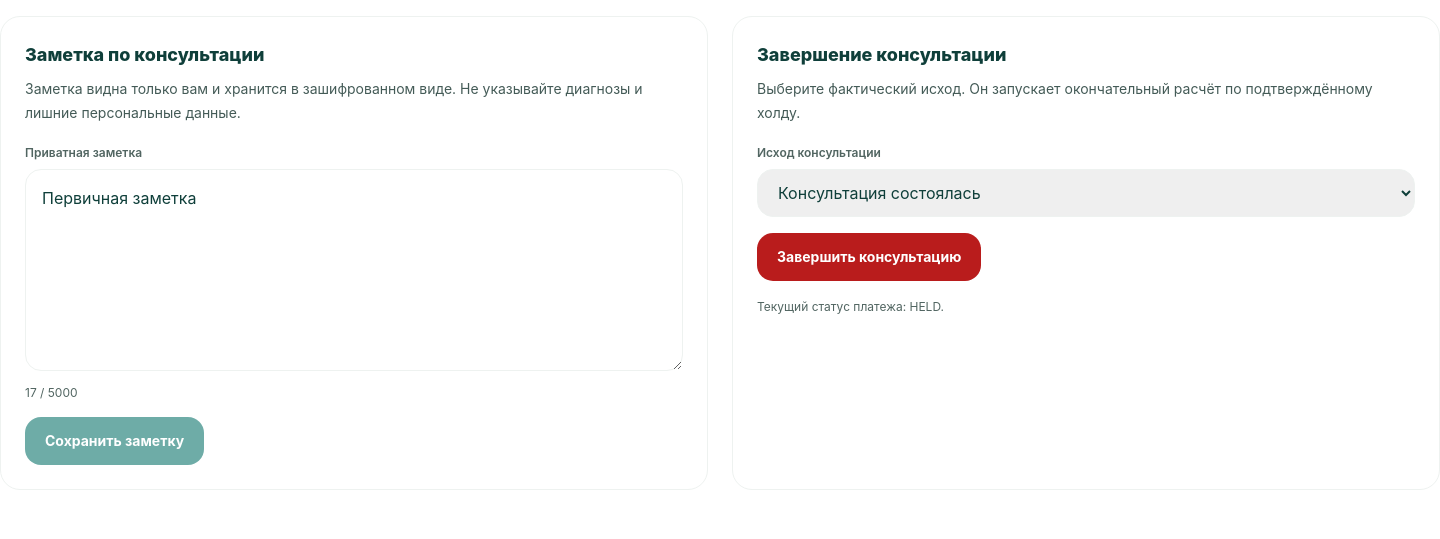
ExpertSessionActions › при ошибке заметки сохраняет текст и даёт повторить
The width and height of the screenshot is (1440, 539).
Replace the text in the text box labelled "Приватная заметка" with "Черновик": coordinates (354, 270) 25,169 -> 683,371
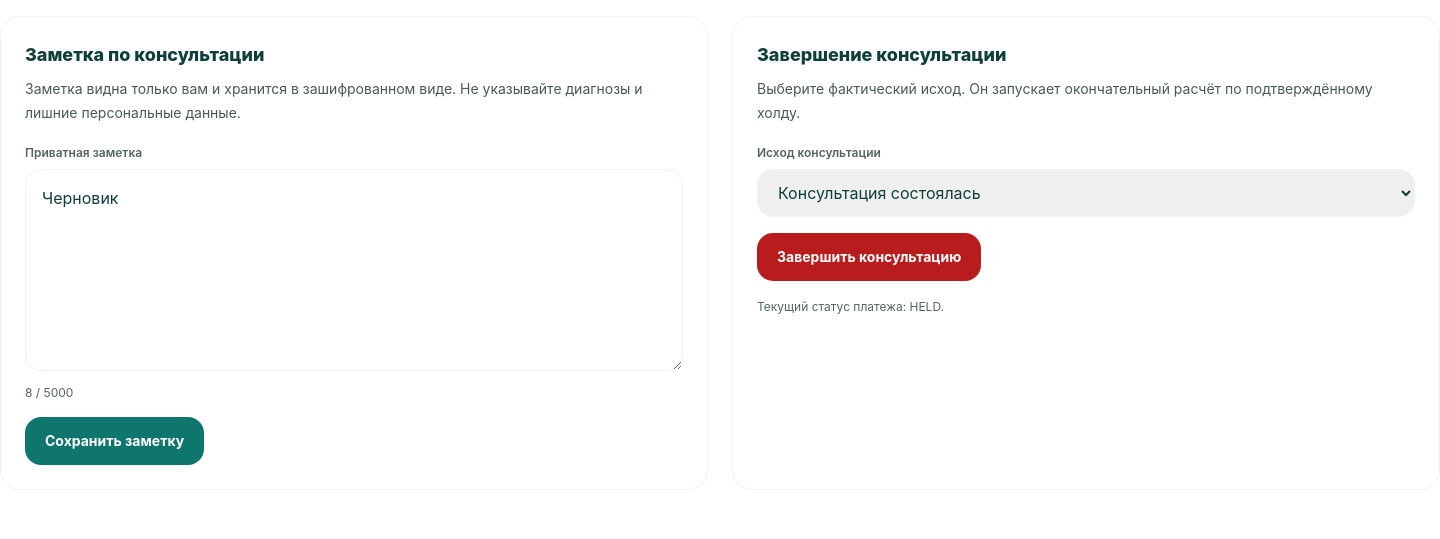
Click the button "Сохранить заметку": coordinates (115, 441) 25,417 -> 204,465
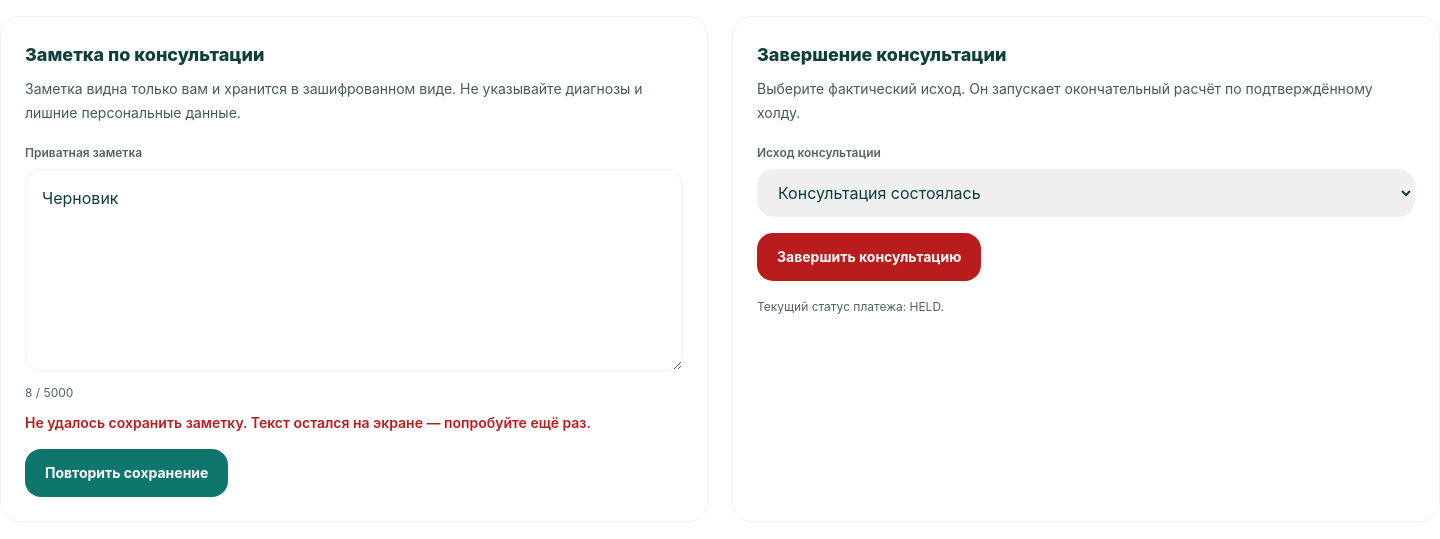
Result: the message shows "Не удалось сохранить" at 25,414 -> 591,431
Click the button "Повторить сохранение": coordinates (127, 473) 25,449 -> 228,497
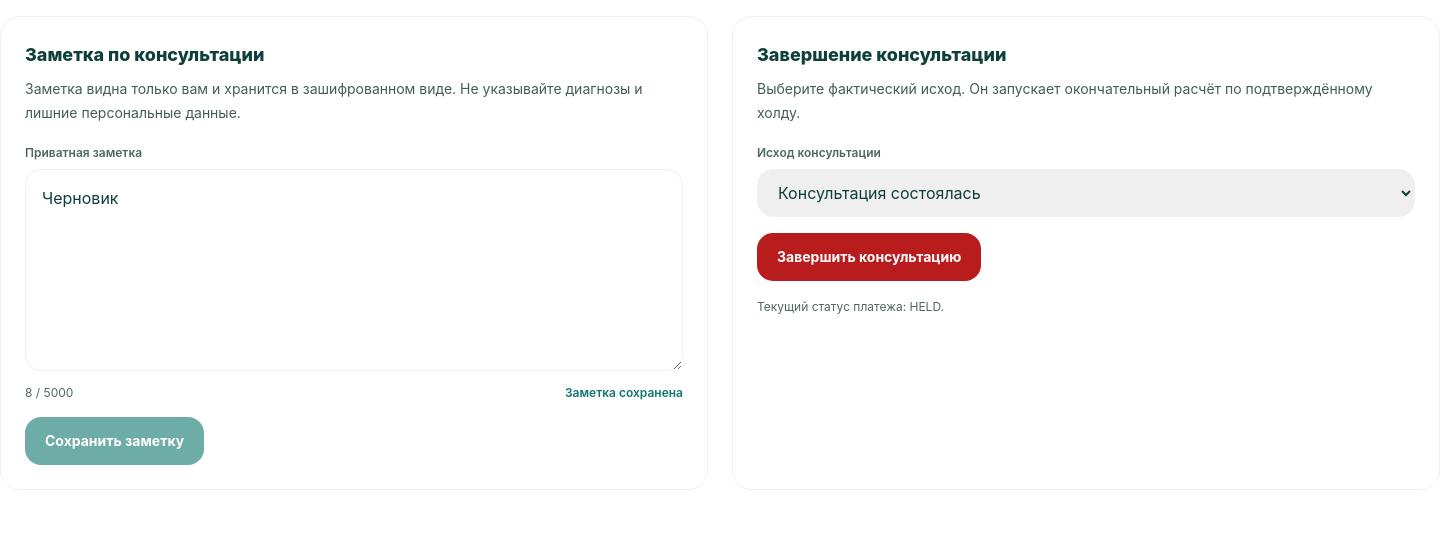
Result: the text "Заметка сохранена" is shown at 565,385 -> 683,401
